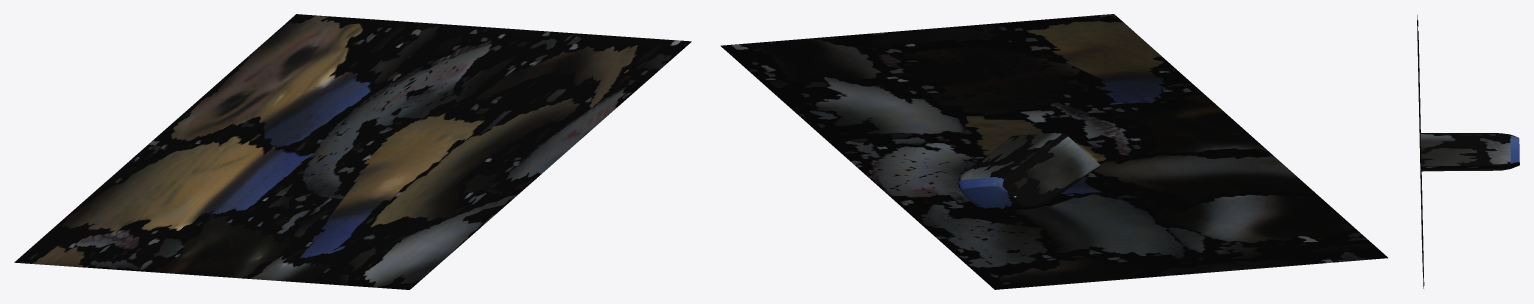
The model's file is final_mesh_bottle-dettol_washing_machine.obj.
3 renders of one model, left to right at view 1: azimuth 30°, elevation 25°; view 2: azimuth 150°, elevation 25°; view 3: azimuth 270°, elevation 25°, orthographic. The views are drawn at different scales.
Parts seen in each view (by area): view 1: geometry_0; view 2: geometry_0; view 3: geometry_0.
Part boxes in pixels (x1,y1,x2,y2): geometry_0: (14,14,691,289); geometry_0: (720,14,1387,289); geometry_0: (1417,15,1519,288).
Bounding box in the file's own units: 0.1064 × 0.046 × 0.0184.
